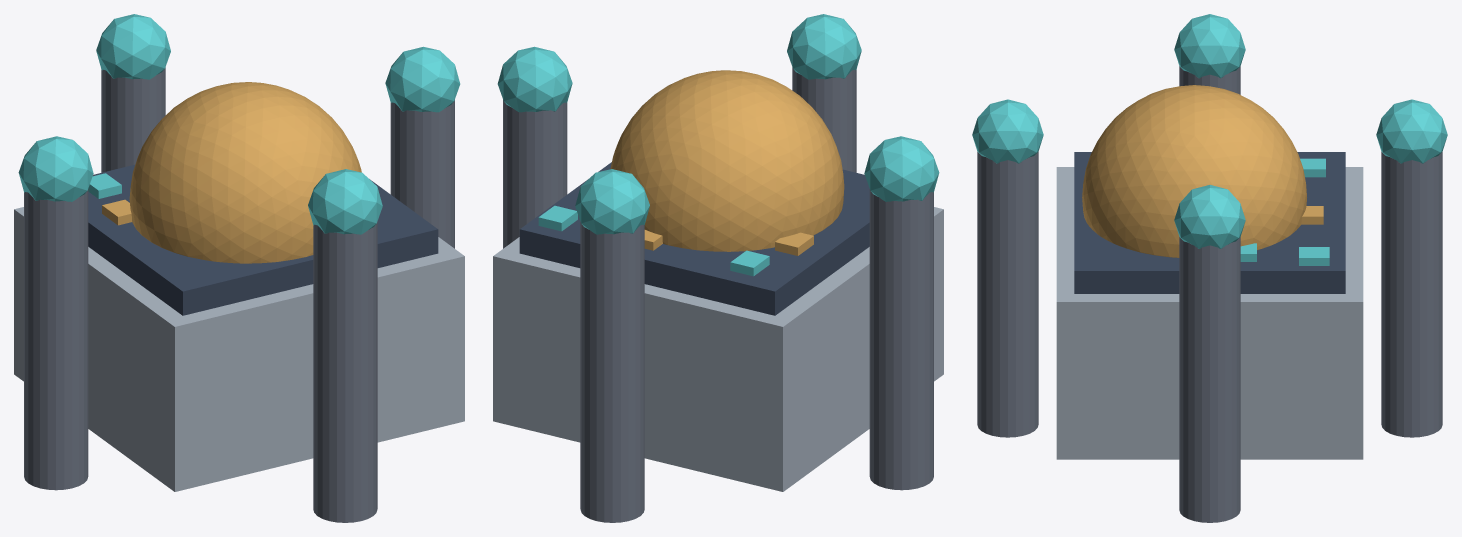
Rendered from mira-autonoma.glb.
The picture shows the model from 3 angles, left to right: view 1: azimuth 30°, elevation 25°; view 2: azimuth 150°, elevation 25°; view 3: azimuth 270°, elevation 25°; orthographic projection. The views are drawn at different scales.
Parts seen in each view (by area): view 1: part000, part002, part006, part008, part001, part004, part010, part005, part007, part011, part009, part021 (+1 smaller); view 2: part000, part002, part010, part008, part001, part004, part005, part011, part007, part009, part006, part015 (+2 smaller); view 3: part000, part002, part006, part010, part004, part001, part007, part011, part009, part005, part008, part015.
Boxes of the visible parts, bbox=[...] form: part000: bbox=[14, 207, 464, 491]; part002: bbox=[129, 82, 361, 263]; part006: bbox=[313, 221, 377, 522]; part008: bbox=[24, 189, 88, 490]; part001: bbox=[88, 164, 438, 315]; part004: bbox=[390, 100, 454, 248]; part010: bbox=[101, 67, 165, 172]; part005: bbox=[385, 46, 460, 112]; part007: bbox=[308, 169, 382, 234]; part011: bbox=[96, 14, 170, 79]; part009: bbox=[18, 136, 93, 201]; part021: bbox=[88, 173, 121, 198]; part000: bbox=[493, 207, 943, 491]; part002: bbox=[610, 70, 844, 251]; part010: bbox=[580, 221, 644, 522]; part008: bbox=[869, 189, 933, 490]; part001: bbox=[519, 162, 869, 315]; part004: bbox=[503, 100, 567, 248]; part005: bbox=[497, 46, 572, 112]; part011: bbox=[575, 169, 649, 234]; part007: bbox=[787, 14, 861, 79]; part009: bbox=[864, 136, 939, 201]; part006: bbox=[792, 67, 856, 172]; part015: bbox=[538, 205, 577, 231]; part000: bbox=[1056, 167, 1363, 459]; part002: bbox=[1082, 85, 1306, 257]; part006: bbox=[977, 151, 1038, 437]; part010: bbox=[1381, 151, 1442, 437]; part004: bbox=[1179, 237, 1240, 522]; part001: bbox=[1074, 152, 1345, 293]; part007: bbox=[972, 99, 1043, 163]; part011: bbox=[1376, 99, 1447, 163]; part009: bbox=[1174, 14, 1245, 78]; part005: bbox=[1174, 185, 1245, 248]; part008: bbox=[1179, 66, 1240, 94]; part015: bbox=[1299, 247, 1329, 265].
Size of the model in its own units: 1.86 by 1.42 by 1.86.
